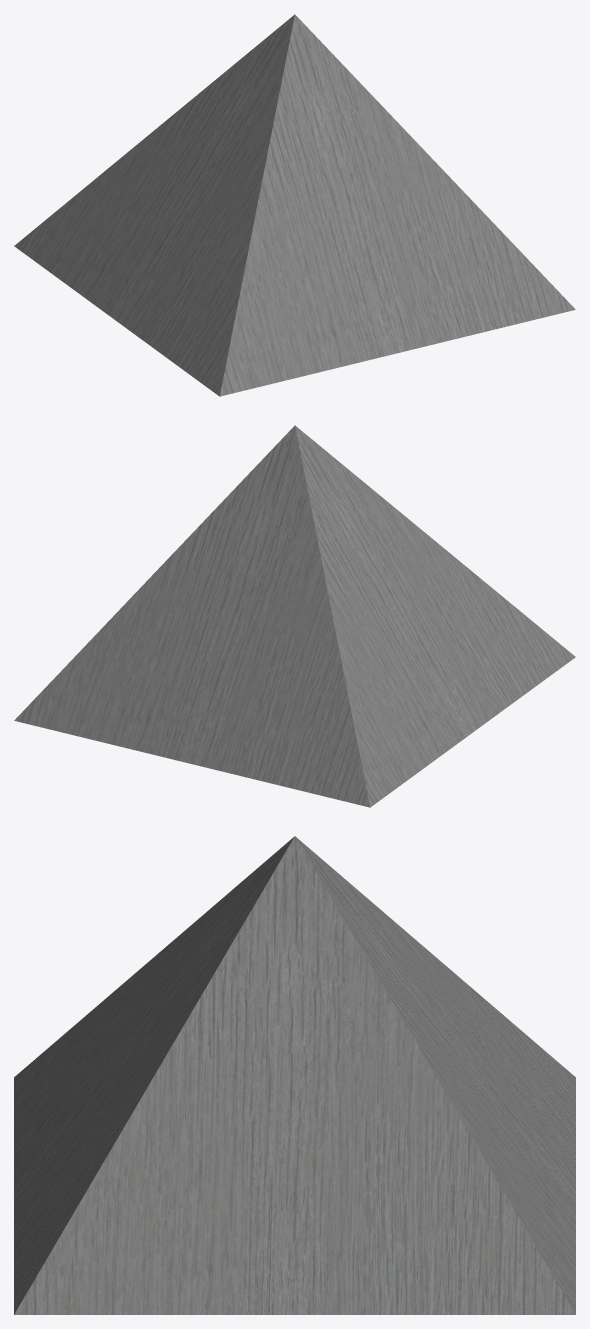
File: BellTowRoof.obj
3 views of the same model, one above another, from view 1: azimuth 30°, elevation 25°; view 2: azimuth 150°, elevation 25°; view 3: azimuth 270°, elevation 25° (orthographic). The views are drawn at different scales.
Parts seen in each view (by area): view 1: polySurface26 polySurface19 polySurface17 polySurface6 polySurfa; view 2: polySurface26 polySurface19 polySurface17 polySurface6 polySurfa; view 3: polySurface26 polySurface19 polySurface17 polySurface6 polySurfa.
Part boxes in pixels (left/top/right/bottom): polySurface26 polySurface19 polySurface17 polySurface6 polySurfa: left=14, top=14, right=575, bottom=396; polySurface26 polySurface19 polySurface17 polySurface6 polySurfa: left=14, top=425, right=575, bottom=807; polySurface26 polySurface19 polySurface17 polySurface6 polySurfa: left=14, top=836, right=575, bottom=1314.
Bounding box in the file's own units: 90 × 63.64 × 90.
1 material, 1 textured.
